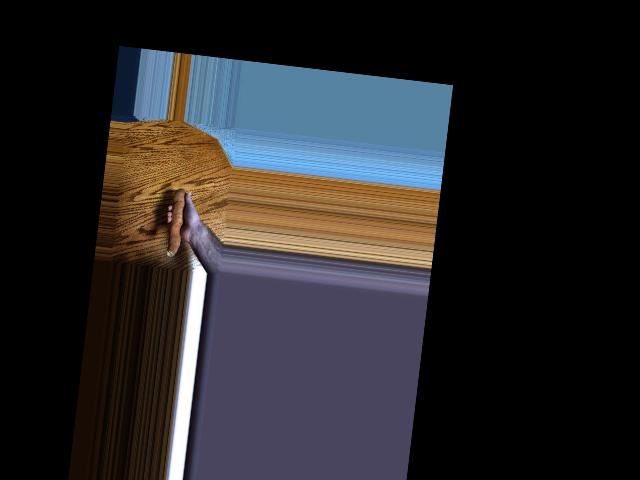sweet_potato: (165, 186, 194, 259)
